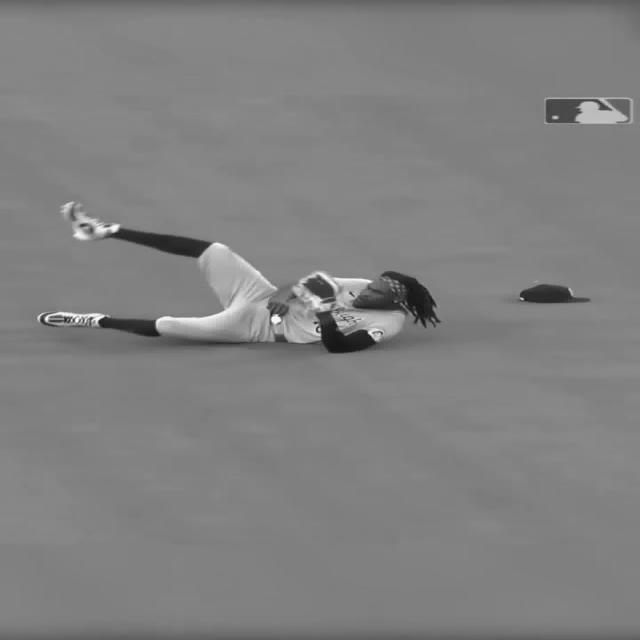baseball_glove: (293, 272, 339, 309)
shoe: (54, 205, 118, 248), (38, 313, 111, 330)
